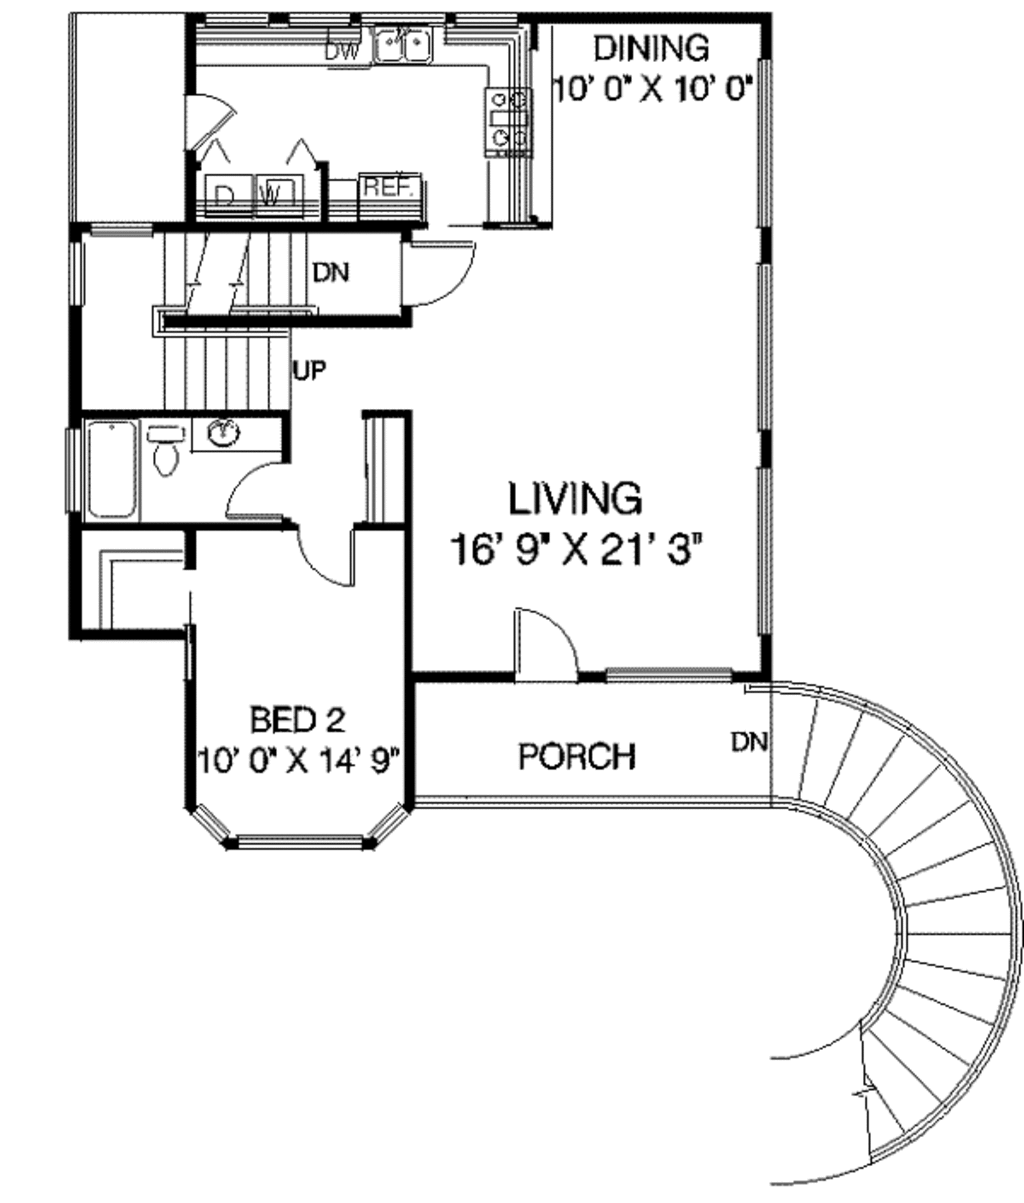door: (508, 596, 595, 687), (386, 237, 486, 313), (286, 509, 367, 604), (217, 461, 284, 522), (173, 91, 234, 159)
large_sink: (132, 405, 193, 489)
small_sink: (193, 413, 284, 457)
stairs: (745, 676, 1021, 1189), (130, 228, 317, 413)
tub: (82, 415, 137, 529)
twin_sink: (356, 7, 450, 72)
window: (193, 804, 400, 846), (752, 455, 786, 644), (747, 255, 778, 441), (747, 54, 775, 239), (199, 2, 360, 29), (63, 429, 86, 515), (63, 233, 87, 311)
